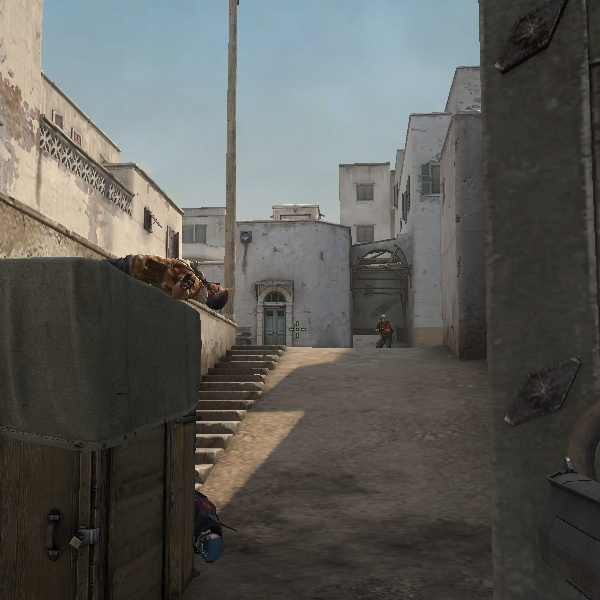t_body: (373, 314, 395, 347)
t_head: (379, 314, 386, 324)
